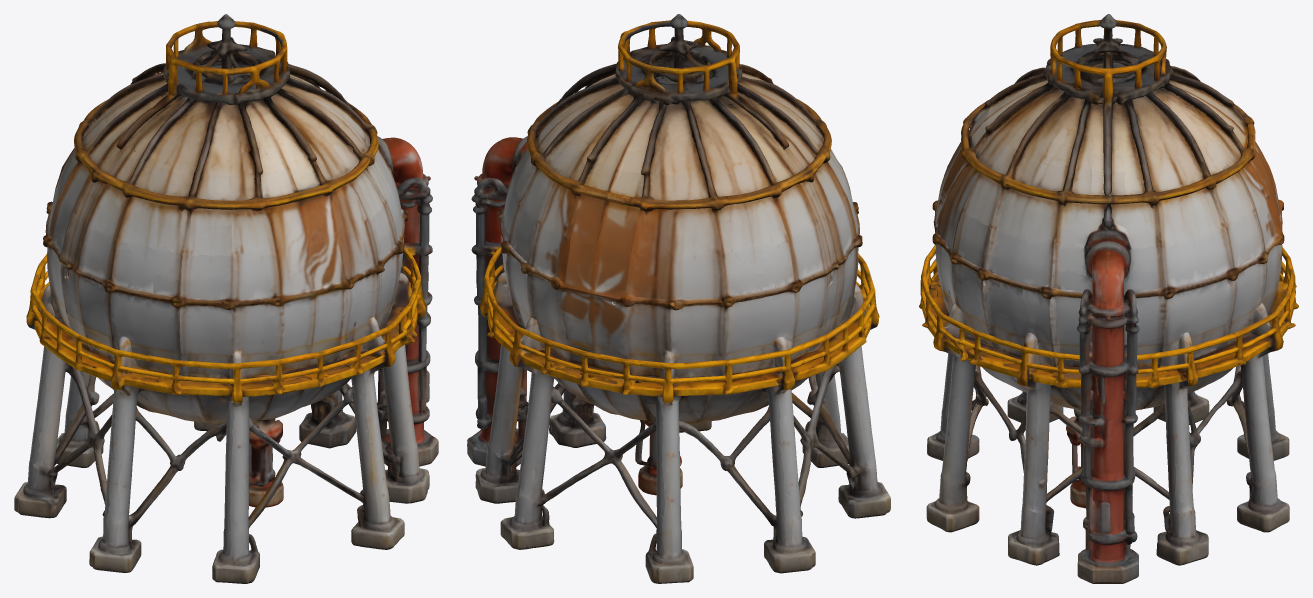
File: tank.glb
The picture shows the model from 3 angles, left to right: view 1: azimuth 30°, elevation 25°; view 2: azimuth 150°, elevation 25°; view 3: azimuth 270°, elevation 25°; orthographic projection. The views are drawn at different scales.
Parts seen in each view (by area): view 1: world; view 2: world; view 3: world.
Part boxes in pixels (x1,y1,x2,y2): world: (14,14,438,583); world: (467,14,890,583); world: (919,14,1298,583).
Bounding box in the file's own units: 12 × 14.78 × 10.75.
Materials: 1 (1 with a texture image).
